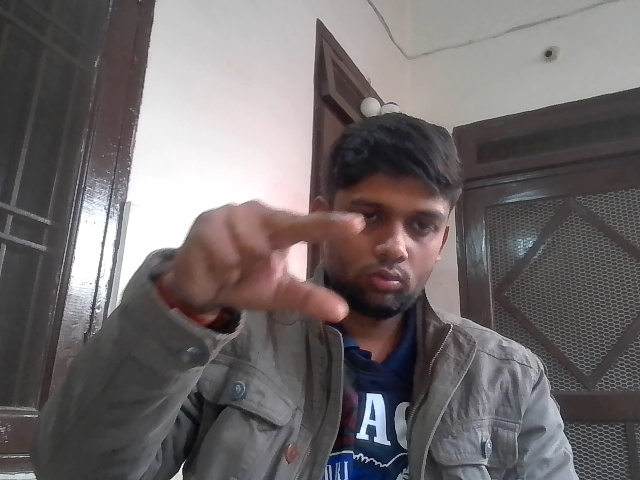No: (164, 191, 378, 352)
